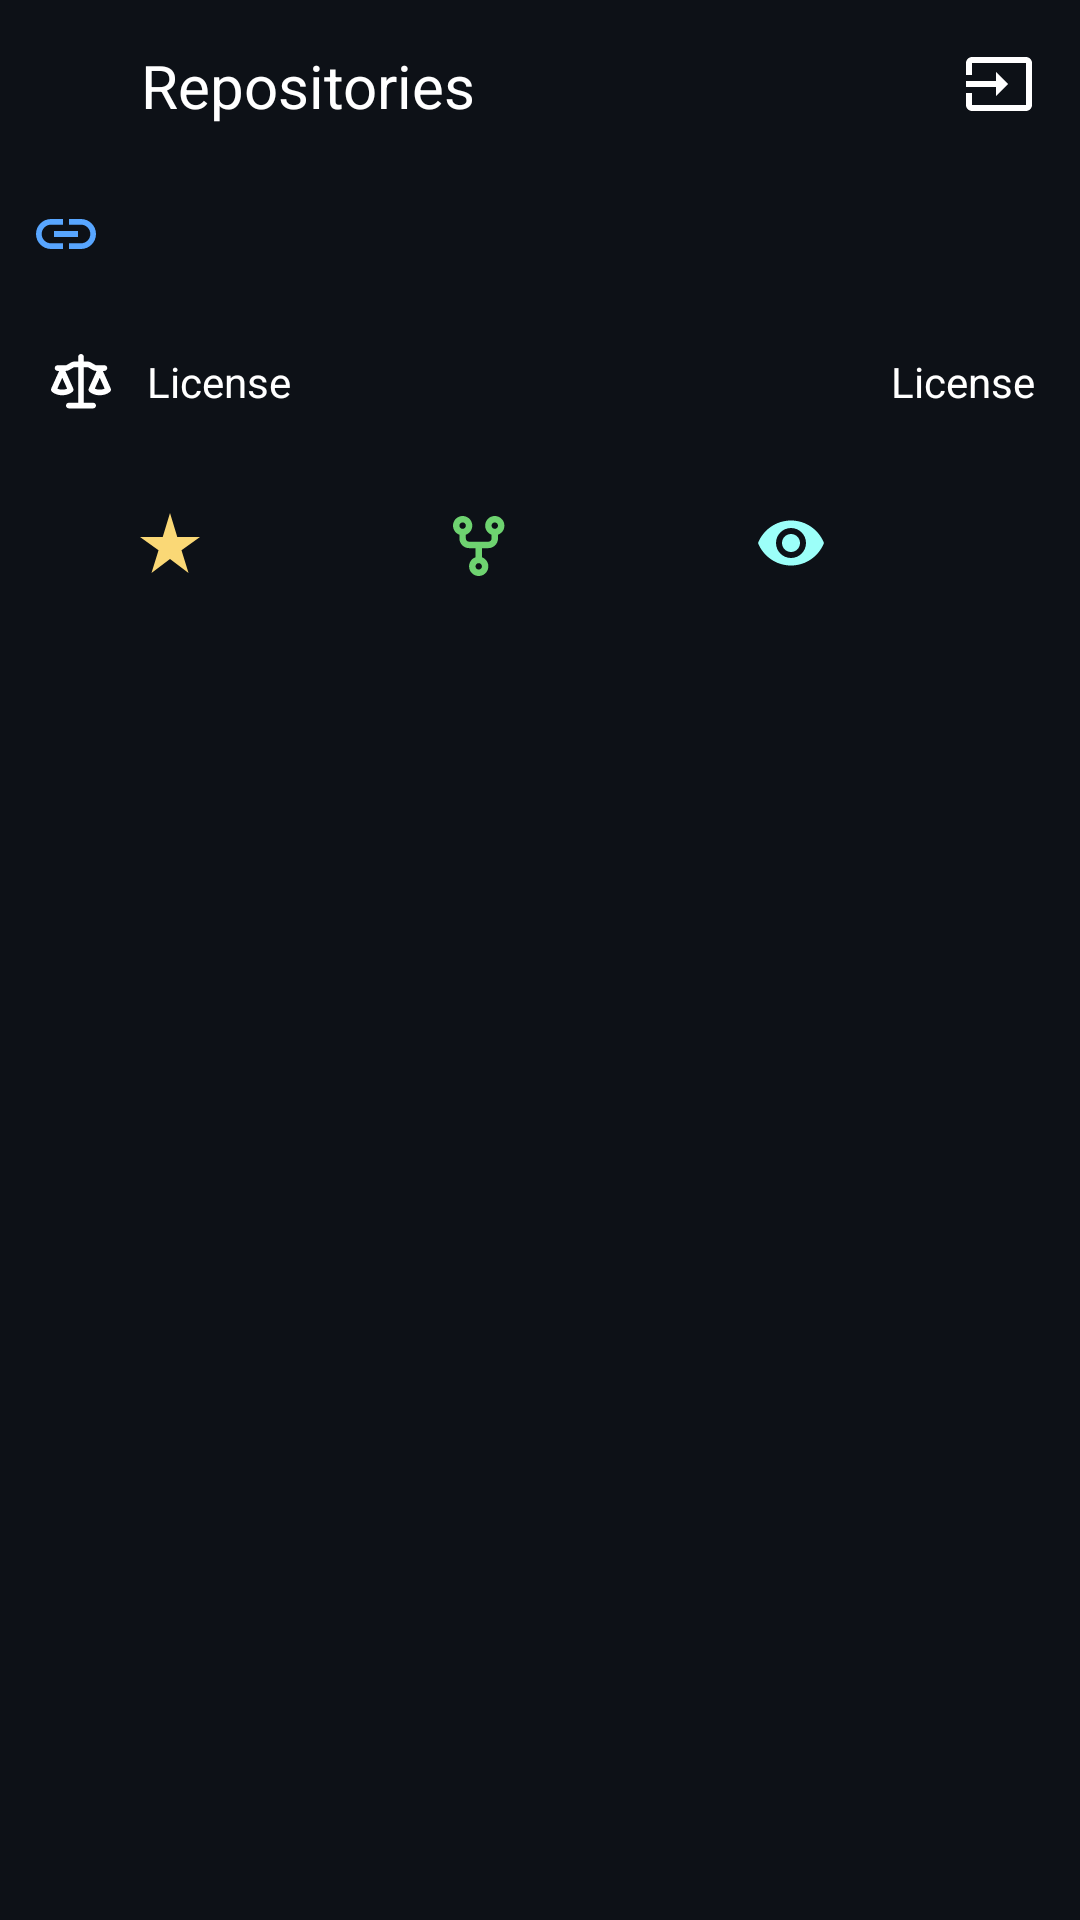

Point at icon controls on the screen. Image size 1080px x 1920px, points as point (x, y).
forks: point (479, 546)
link: point (66, 234)
log out: point (999, 84)
star: point (170, 543)
watchers: point (791, 543)
